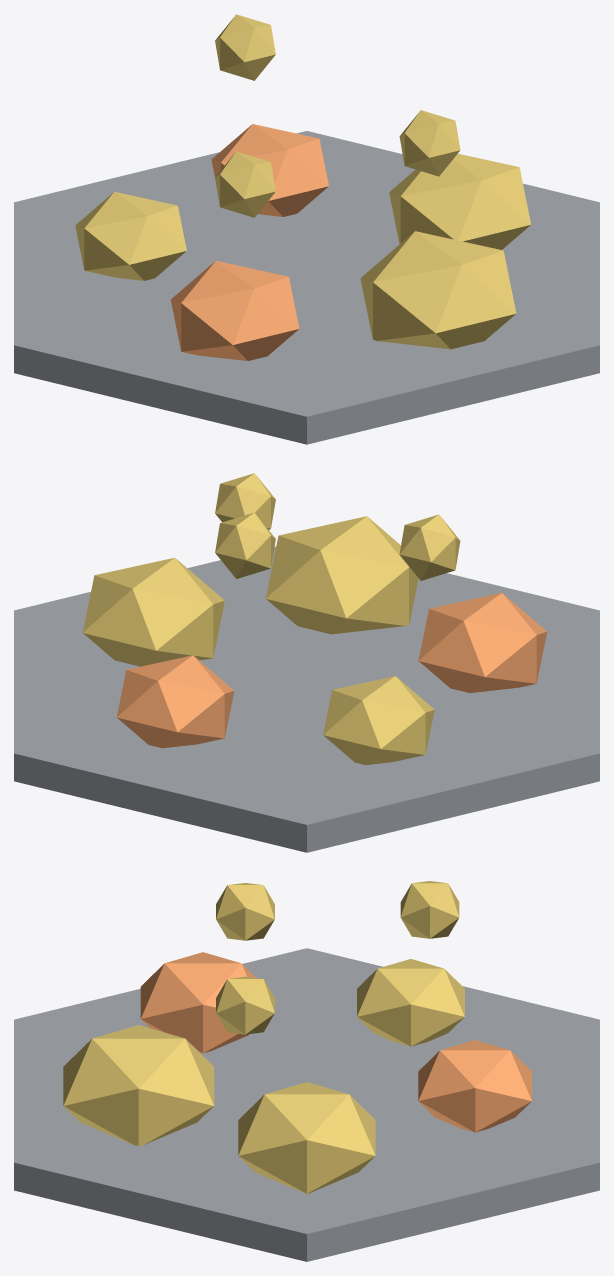
The model's file is animprop_campfire_ember_02.glb.
3 views of the same model, one above another, from view 1: azimuth 30°, elevation 25°; view 2: azimuth 150°, elevation 25°; view 3: azimuth 270°, elevation 25° (orthographic).
Parts seen in each view (by area): view 1: animprop; view 2: animprop; view 3: animprop.
Boxes of the visible parts, x1,y1,x2,y2 form: animprop: [14, 14, 599, 444]; animprop: [14, 473, 599, 852]; animprop: [14, 881, 599, 1261].
Size of the model in its own units: 0.88 by 0.3383 by 0.7621.
